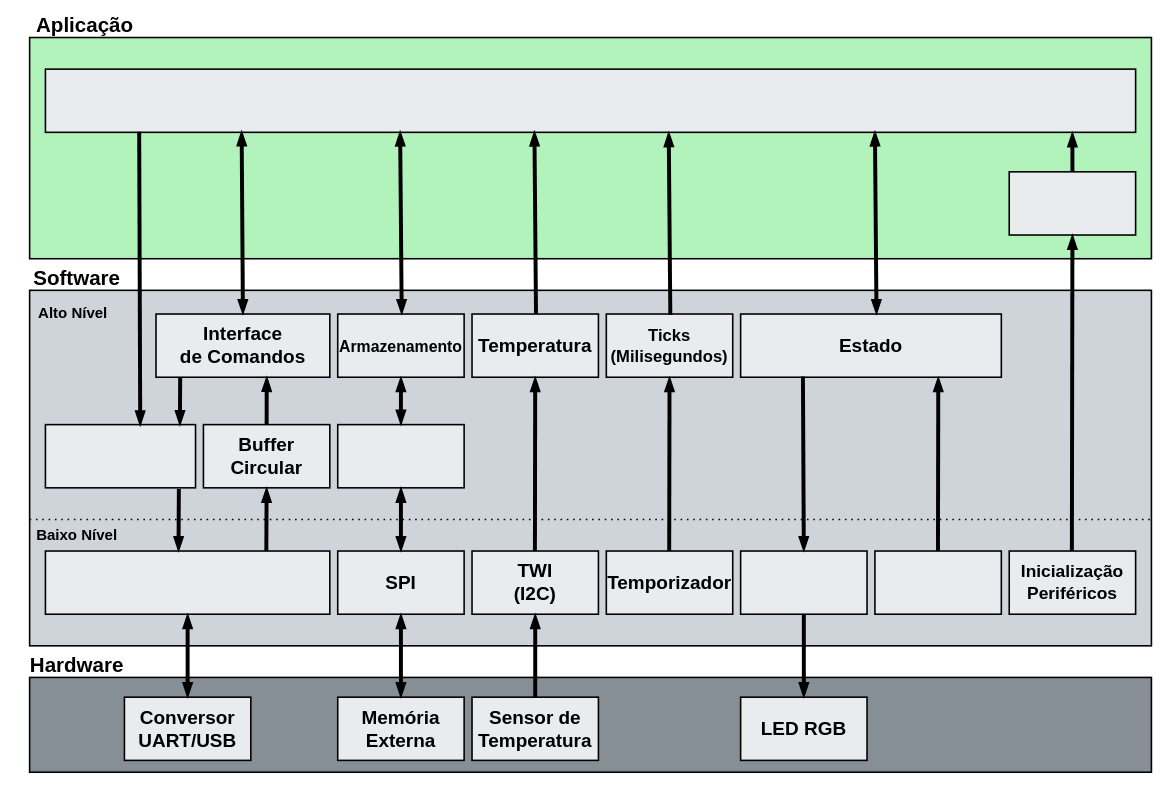
Image size: 1166x787. Some labels were removed from this diagram. The shapes that lost their labels are listed below. From the top down, each one's centre as x and y in pixels, then its label:
At (590,100): "Lógica Principal".
At (1072,203): "Configuração".
At (120,455): "Printf".
At (401,455): "Interface Memória".
At (187,582): "UART".
At (803,582): "ENTRADA/ SAÍDA".
At (938,582): "Conversor A/D".
